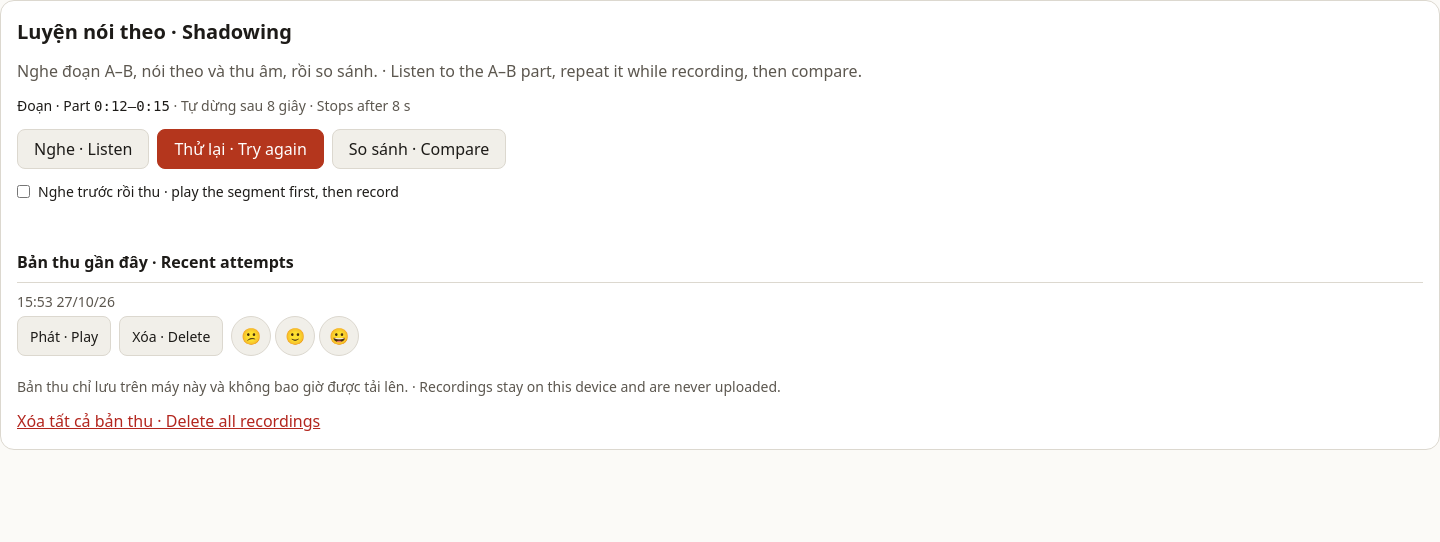
Test: PracticePanel › lists saved attempts, saves a rating, and deletes all after confirming
The image size is (1440, 542).
expect the number of list items is 1: met, box [17,282,1423,364]
expect the button "Thử lại · Try again" is shown: met, box [157,129,324,169]
Click the button named "Sounds right".
click(339, 336)  # box [319,316,359,356]
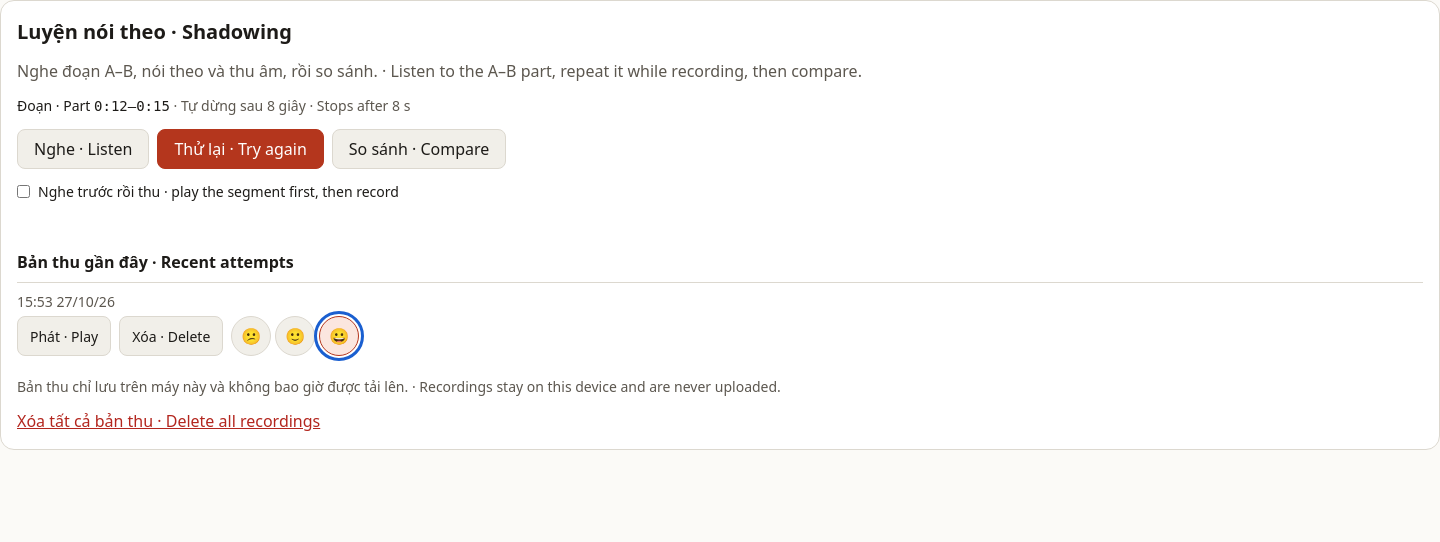
expect the button named "Sounds right" is pressed: met, box [319,316,359,356]
Click the button "Xóa tất cả bản thu · Delete all recordings".
click(169, 421)  # box [17,409,320,433]
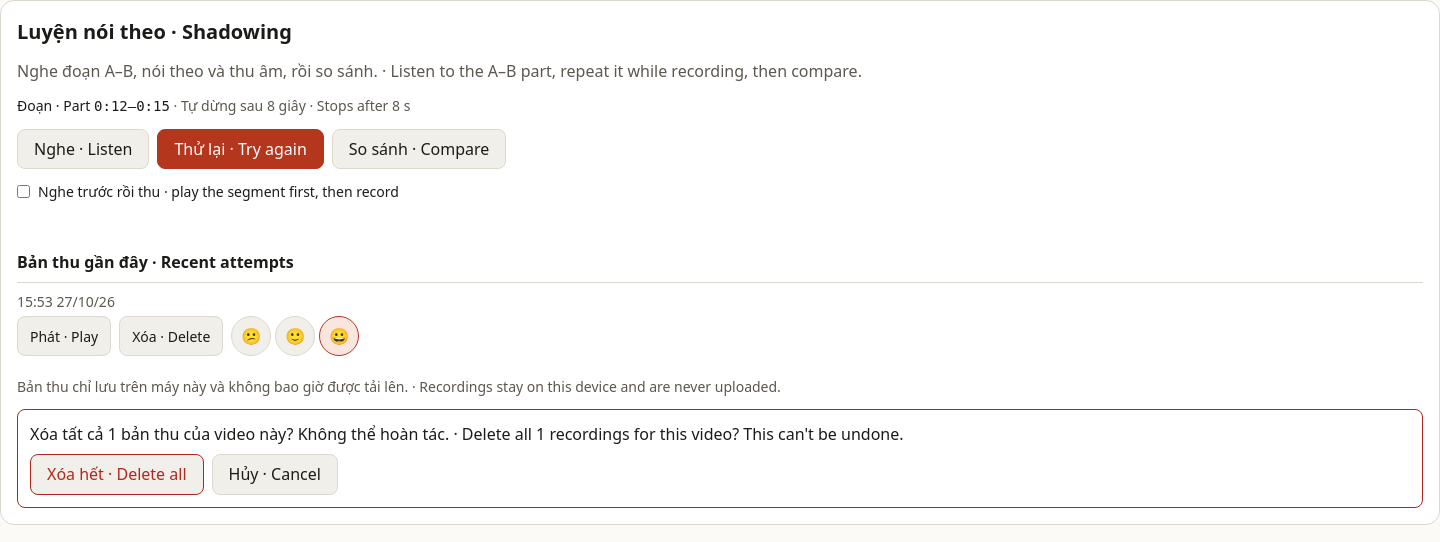
expect the text "This can't be undone" is shown: met, box [545,423,904,445]
Click the button "Xóa hết · Delete all".
click(117, 475)  # box [30,454,204,495]
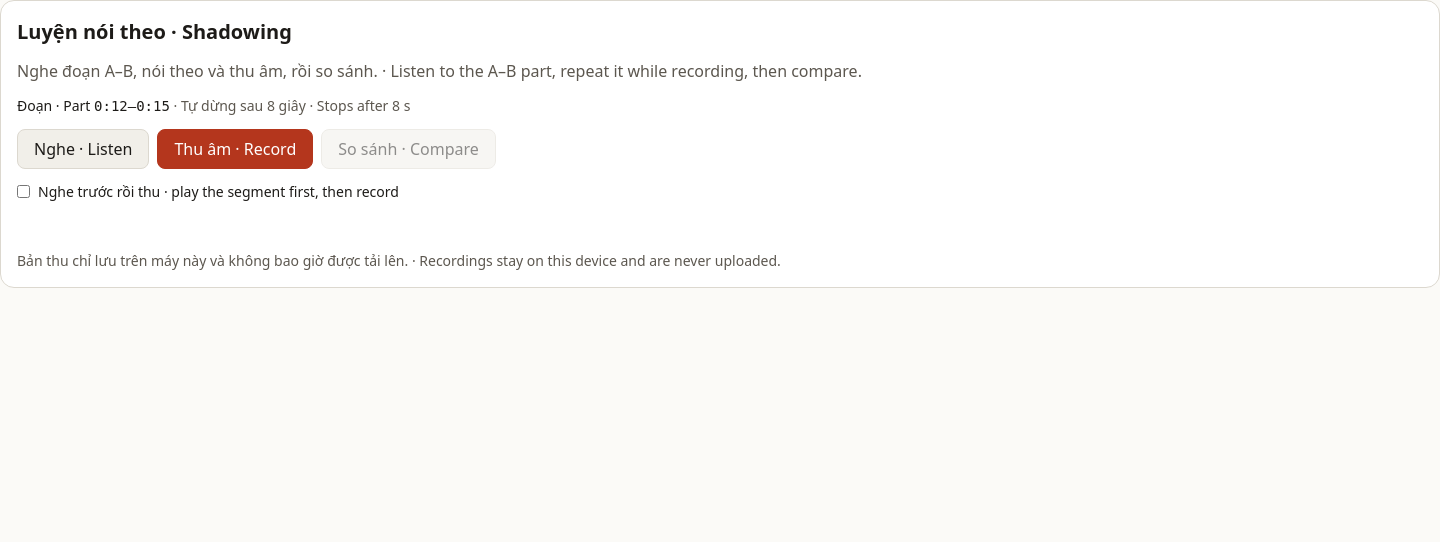
expect the button "Delete all recordings" is not shown: met
expect the list is gone: met
